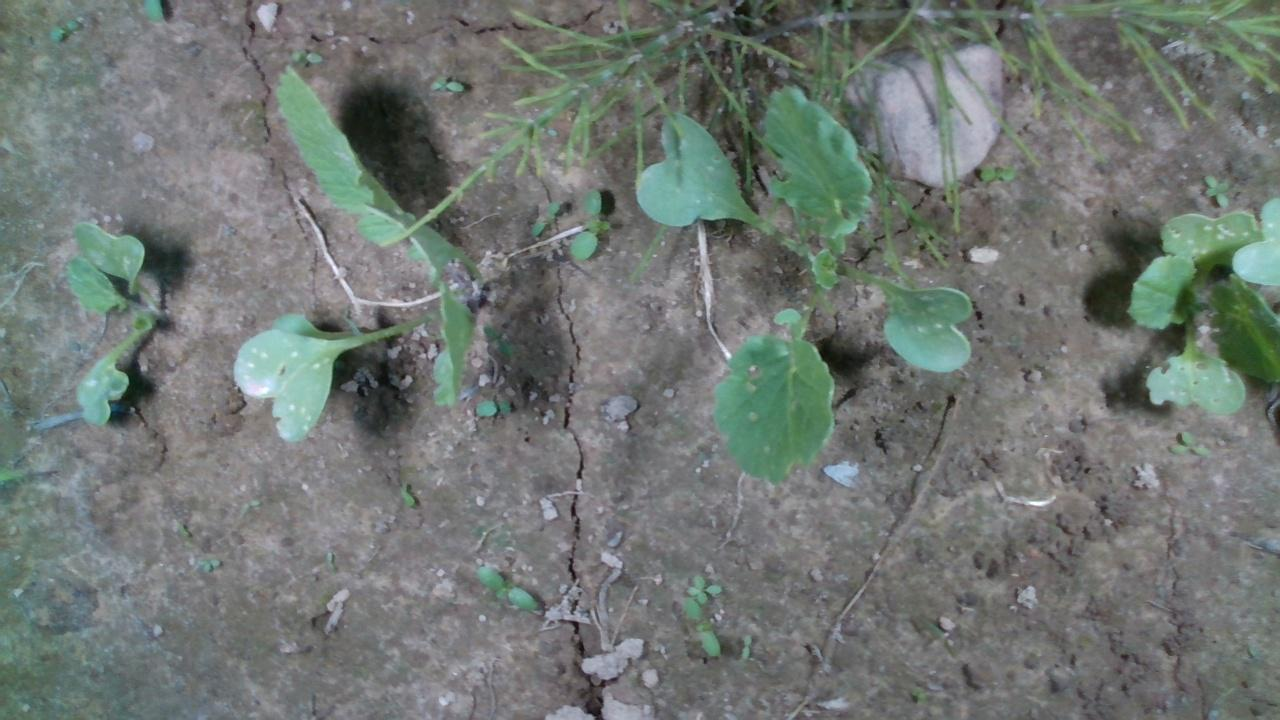weed: (566, 186, 611, 261), (472, 562, 537, 610), (1163, 428, 1209, 457), (528, 199, 560, 237), (1200, 169, 1231, 208), (426, 71, 464, 93), (978, 161, 1016, 183), (47, 17, 80, 40), (473, 398, 514, 416), (397, 479, 414, 509), (196, 555, 222, 573), (738, 629, 753, 660)
